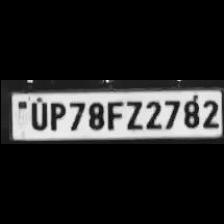2: (200, 96, 220, 130), (142, 98, 160, 130)
7: (64, 99, 84, 131), (160, 96, 178, 130)
8: (179, 96, 199, 130), (84, 99, 104, 131)
F: (104, 98, 124, 132)
P: (46, 99, 64, 131)
U: (26, 99, 46, 131)
Z: (122, 98, 142, 132)
